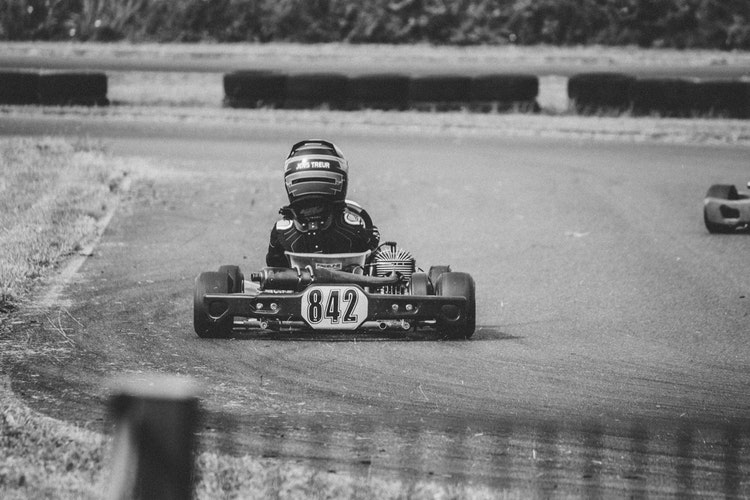helmet: (278, 134, 352, 204)
